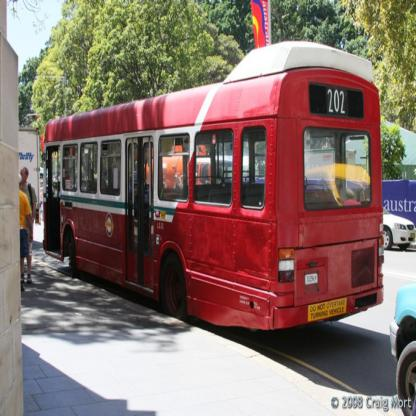Bus: (42, 40, 386, 328)
